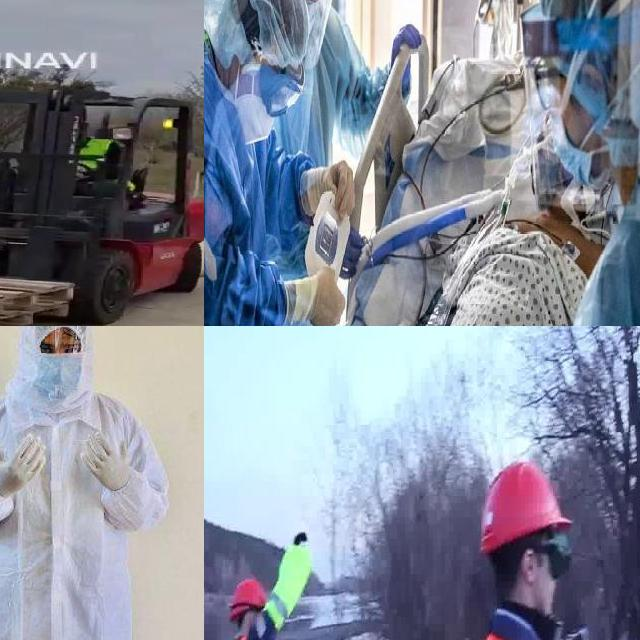GLASS: (524, 531, 582, 582)
Glove: (70, 424, 162, 506), (0, 426, 54, 515)
HELMET: (478, 460, 575, 559), (229, 577, 269, 622)
MASK: (548, 114, 594, 189), (232, 90, 276, 148), (33, 349, 80, 397)
